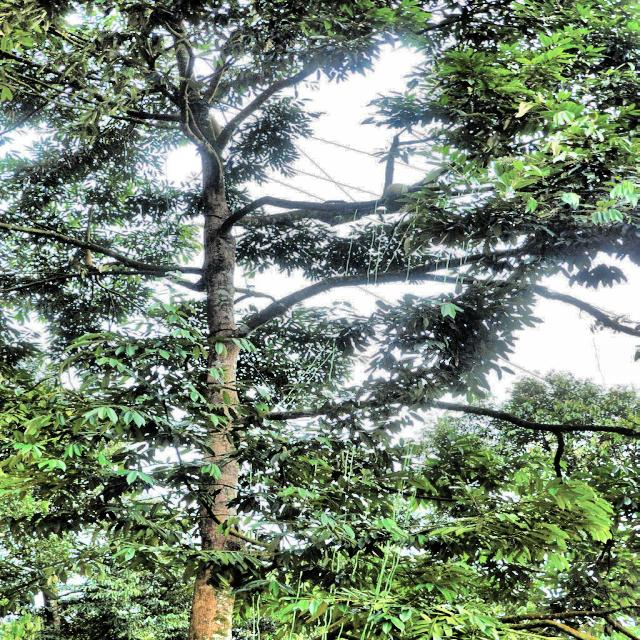arvore: (156, 70, 274, 640)
